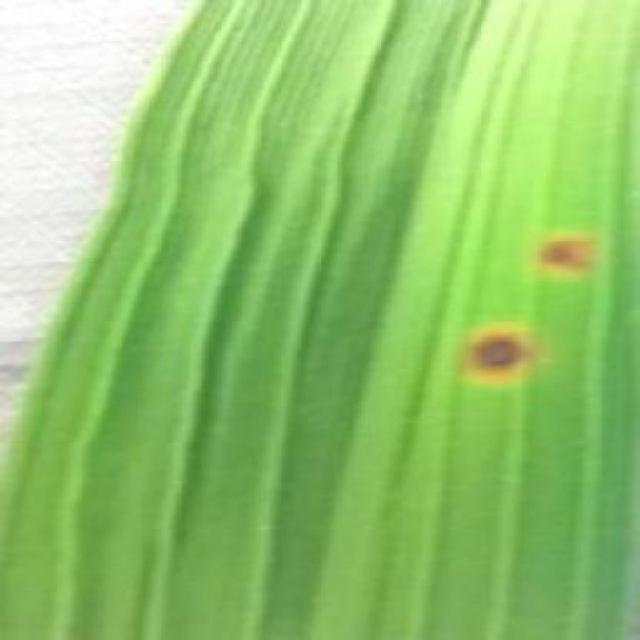Leaf_Blast: (438, 301, 576, 399), (520, 215, 612, 294)
